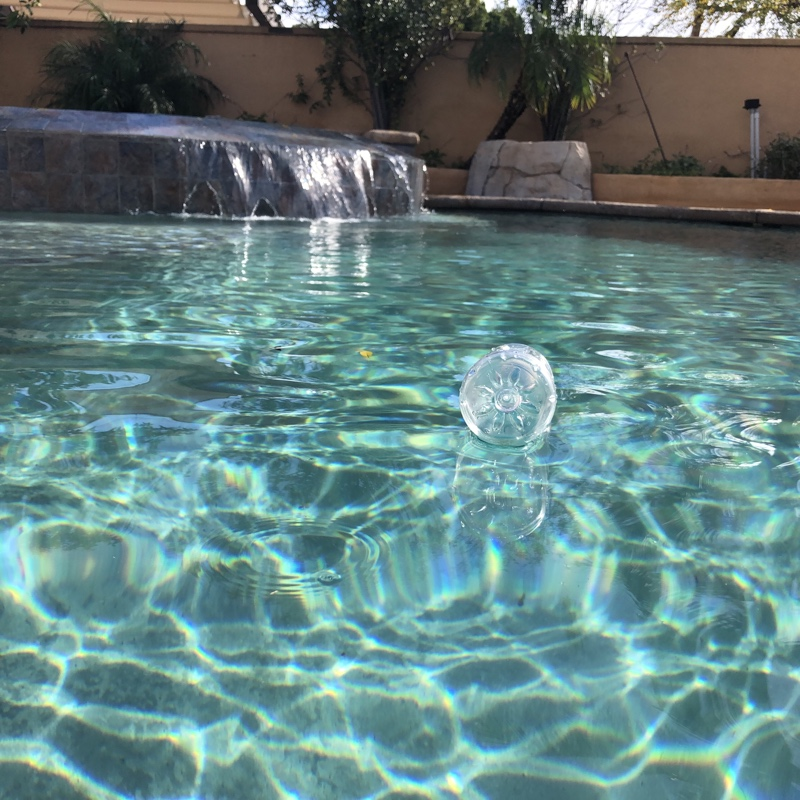Plastic Bottle: (453, 330, 566, 456)
